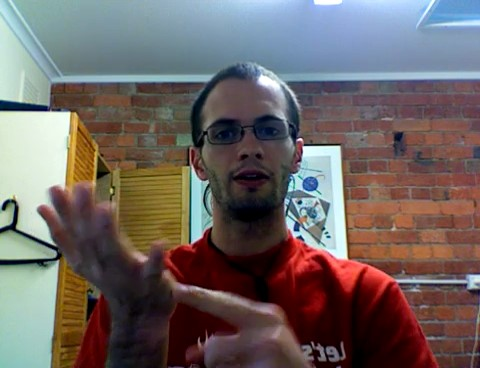T: (26, 175, 326, 366)
